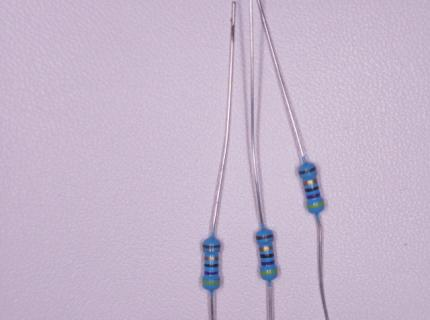Black band: (304, 185, 320, 193), (260, 254, 274, 259), (205, 264, 219, 268)
Brown band: (299, 167, 317, 176), (256, 234, 274, 241), (203, 244, 221, 249)
Gold band: (302, 178, 318, 186), (258, 245, 274, 252), (204, 256, 219, 261)
Violet band: (306, 192, 321, 199), (261, 260, 275, 266), (204, 270, 219, 275)
Yellow band: (306, 201, 325, 209), (260, 269, 278, 276), (202, 279, 220, 285)
